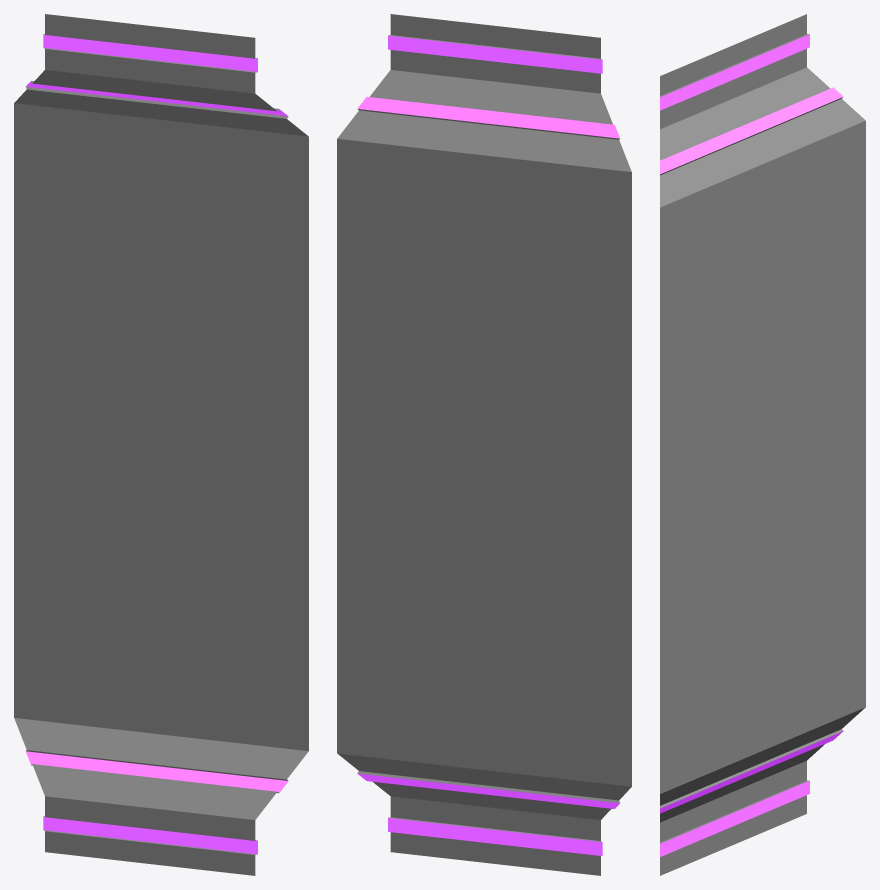
The model's file is WallGap.FBX.
The picture shows the model from 3 angles, left to right: view 1: azimuth 30°, elevation 25°; view 2: azimuth 210°, elevation 25°; view 3: azimuth 270°, elevation 25°; orthographic projection. The views are drawn at different scales.
Visible parts, largest first — view 1: WallGap; view 2: WallGap; view 3: WallGap.
Boxes of the visible parts, x1,y1,x2,y2 form: WallGap: [14, 14, 308, 875]; WallGap: [337, 14, 631, 875]; WallGap: [660, 14, 865, 875].
Size of the model in its own units: 70 by 70 by 300.
